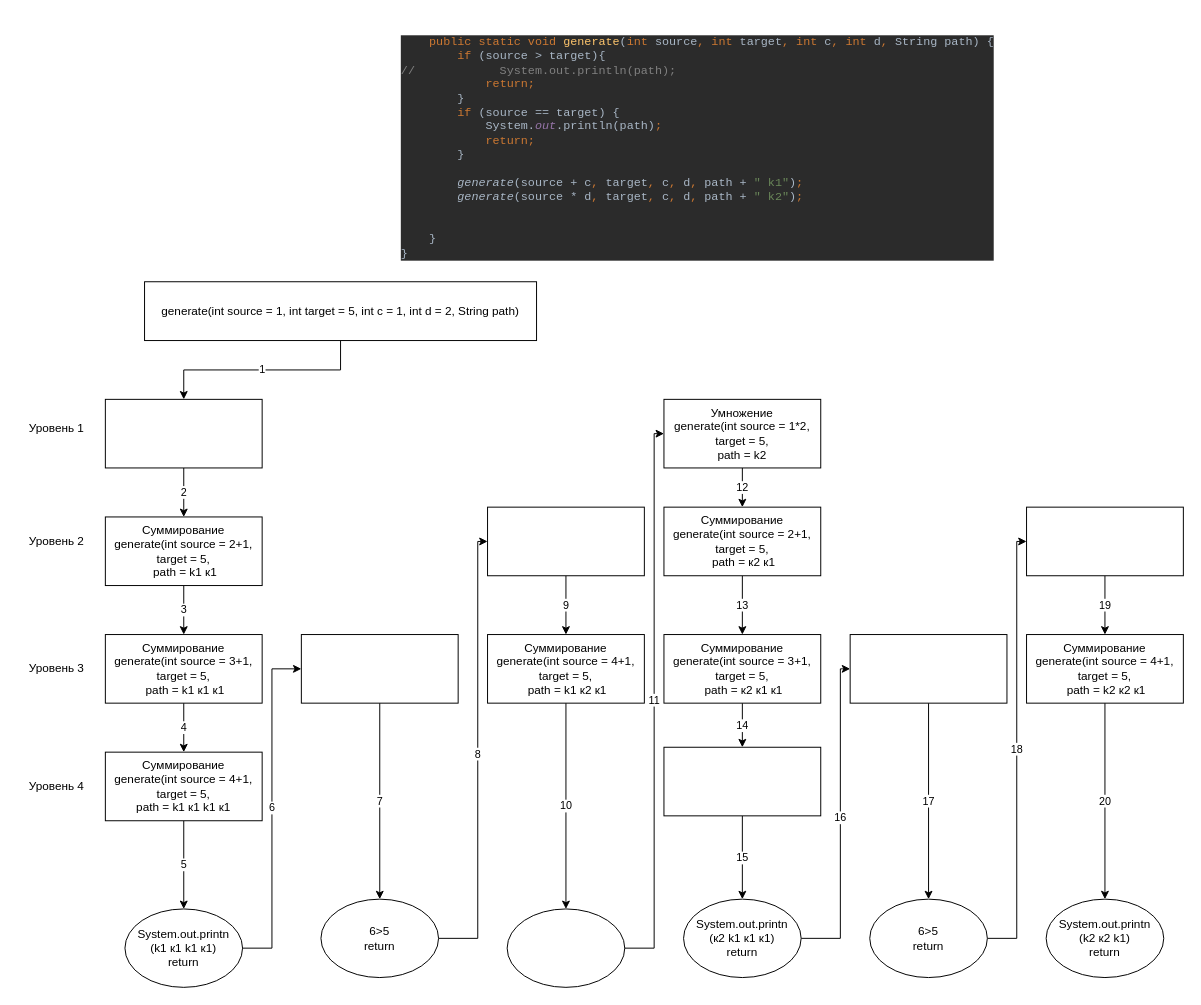
Some shapes in this 1201 by 1005 pixel diagram are drawn without their labels. The centre of each missing label's shape, as x and y in pixels:
System.out.printn (k1 к2 k1) return: (x=565, y=947)
Суммирование generate(int source = 1+1, target = 5, path = k1: (x=183, y=433)
Суммирование generate(int source = 4+1, target = 5, path = к2 к1 к1 к1: (x=742, y=781)
Умножение generate(int source = 2*2, target = 5, path = k1 к2: (x=565, y=541)
Умножение generate(int source = 2*2, target = 5, path = k2 к2: (x=1104, y=541)
Умножение generate(int source = 3*2, target = 5, path = k1 к1 к2: (x=379, y=668)
Умножение generate(int source = 3*2, target = 5, path = k2 к1 к2: (x=928, y=668)
